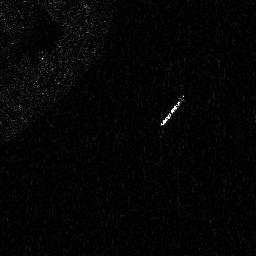ship: (160, 94, 185, 126)
